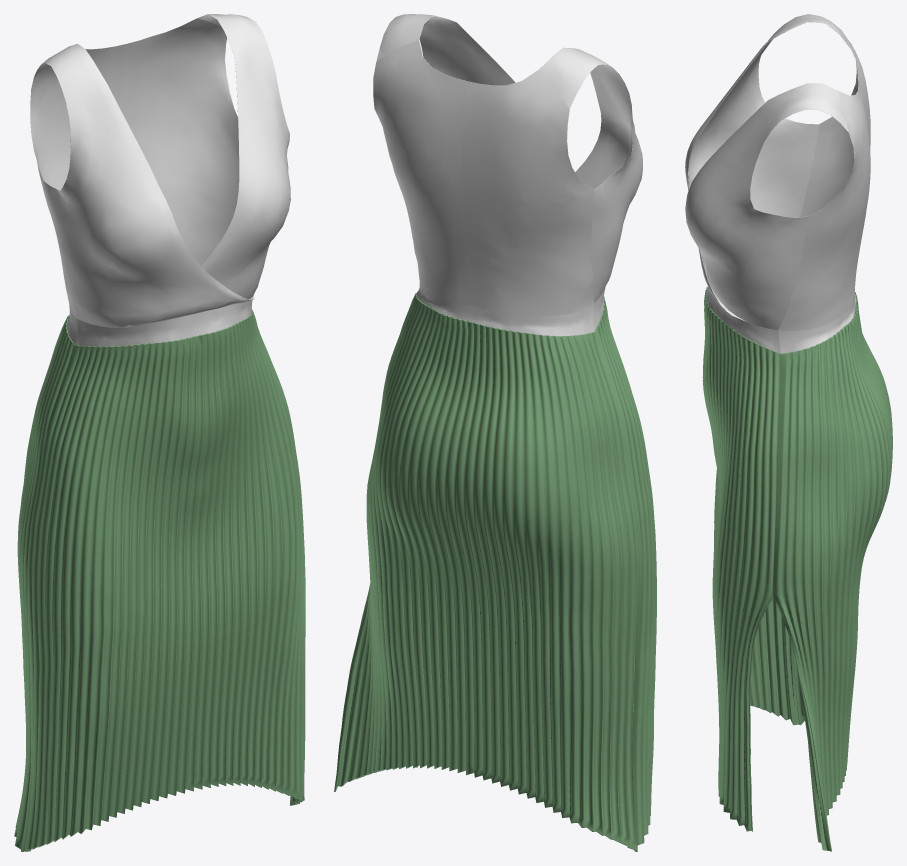
3 renders of one model, left to right at view 1: azimuth 30°, elevation 25°; view 2: azimuth 150°, elevation 25°; view 3: azimuth 270°, elevation 25°, orthographic. The views are drawn at different scales.
Visible parts, largest first — view 1: z; view 2: z; view 3: z.
Part boxes in pixels (left/top/right/bottom): z: left=14, top=14, right=305, bottom=851; z: left=334, top=14, right=656, bottom=851; z: left=685, top=14, right=892, bottom=851.
Size of the model in its own units: 0.4035 by 1.05 by 0.2687.
